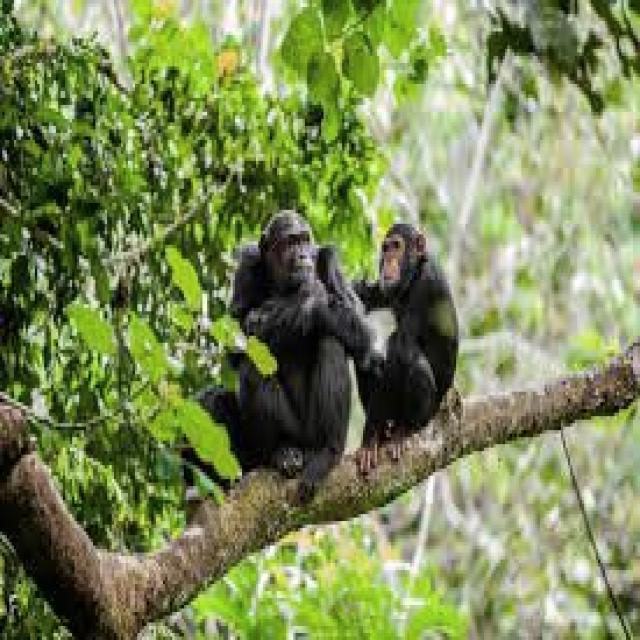chimpanzee: (209, 210, 377, 497), (351, 224, 456, 469)
